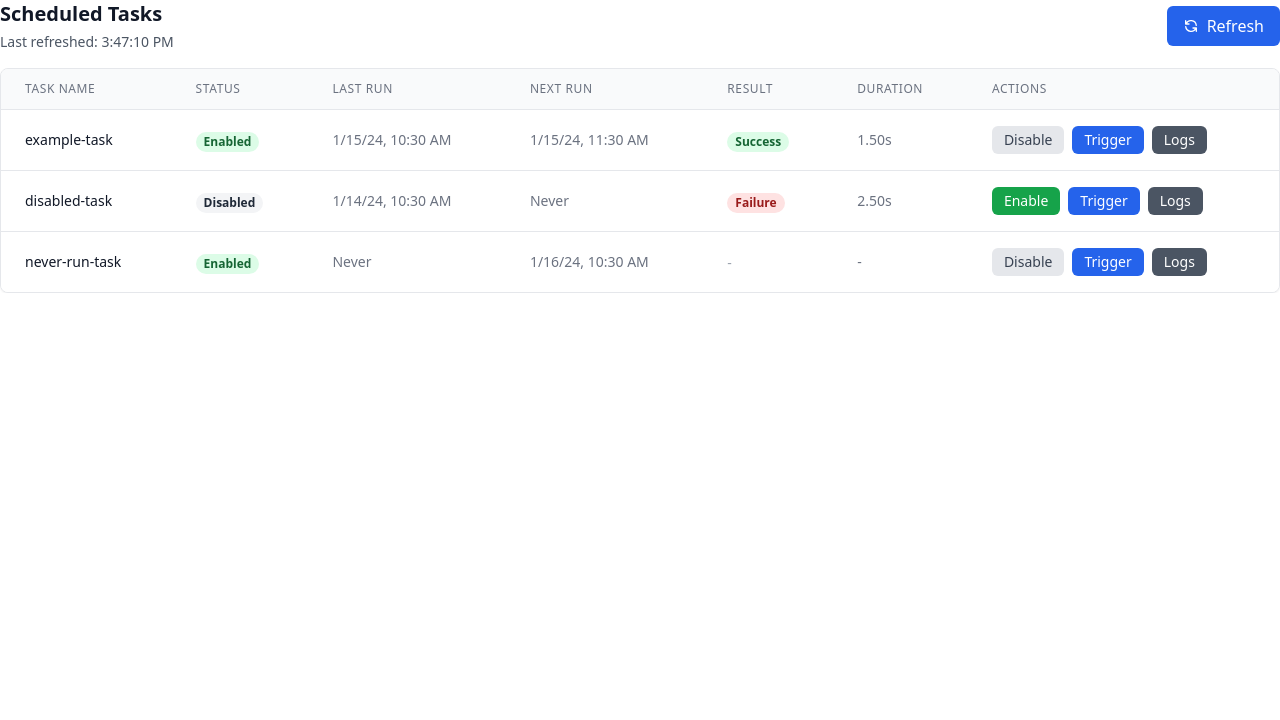
Test case: ScheduledTasksTab › View logs modal opening and display › should show empty state when no execution history exists
Expected: the text "example-task" is shown, [25,130,113,149]
Step 1. Click the button "Logs" in the row of "example-task" → [1179, 140], box [1152,126,1207,154]
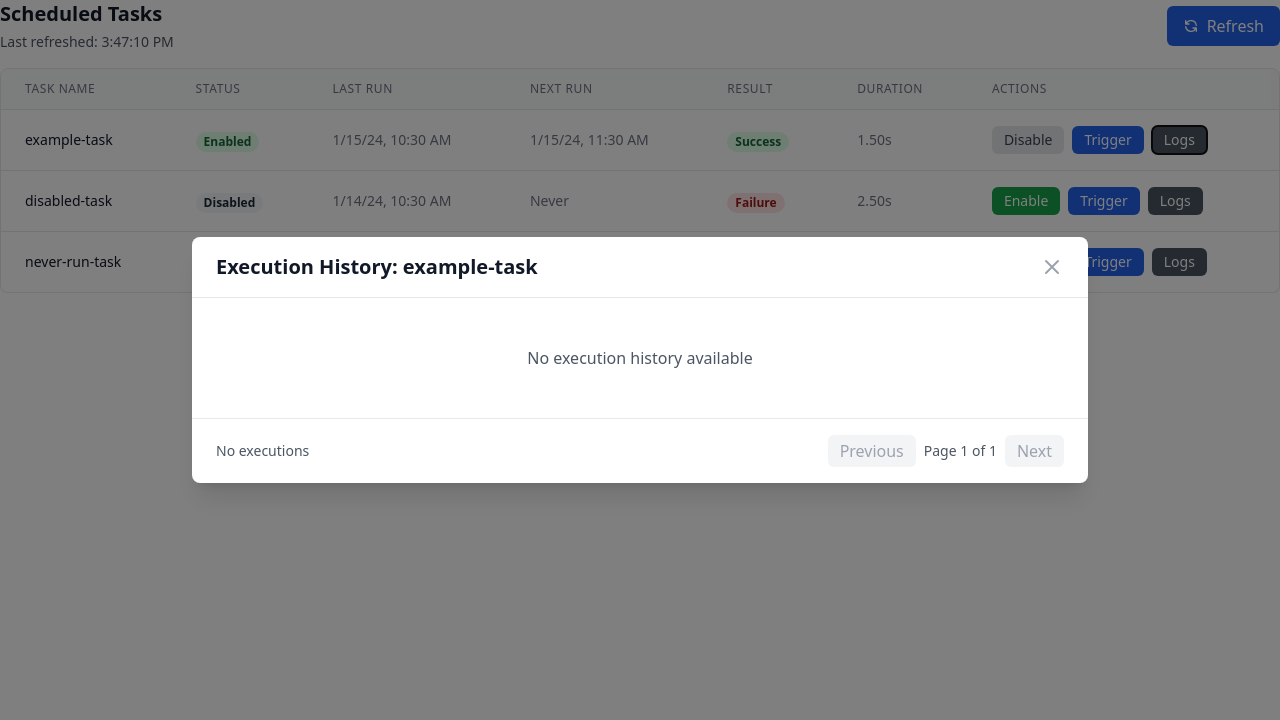
Result: the text "No execution history available" is shown at [527,347,753,369]
